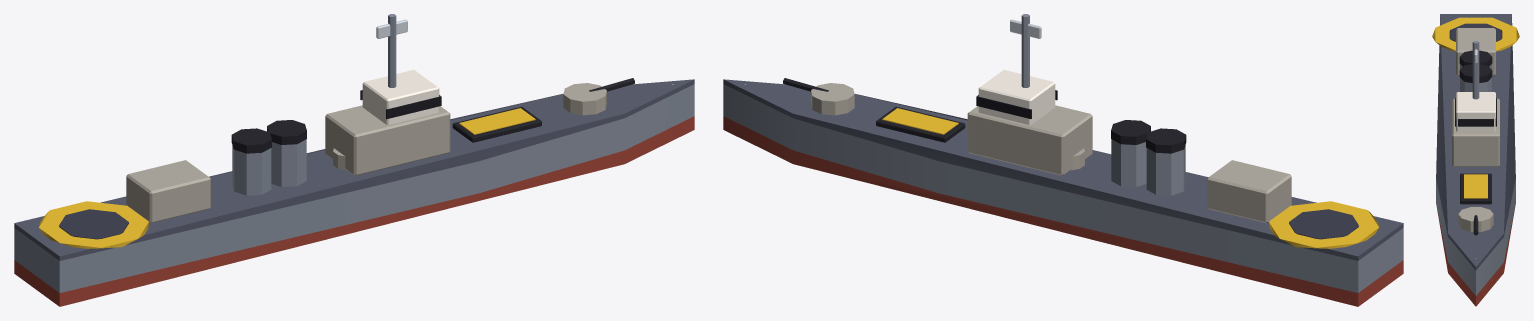
Rendered from destroyer.glb.
The picture shows the model from 3 angles, left to right: view 1: azimuth 30°, elevation 25°; view 2: azimuth 150°, elevation 25°; view 3: azimuth 270°, elevation 25°; orthographic projection. The views are drawn at different scales.
Visible parts, largest first — view 1: destroyer; view 2: destroyer; view 3: destroyer.
Boxes of the visible parts, x1,y1,x2,y2 form: destroyer: (14,14,694,306); destroyer: (723,14,1403,306); destroyer: (1432,14,1519,306).
Bounding box in the file's own units: 150 × 41 × 21.99.
1 material, 1 textured.
